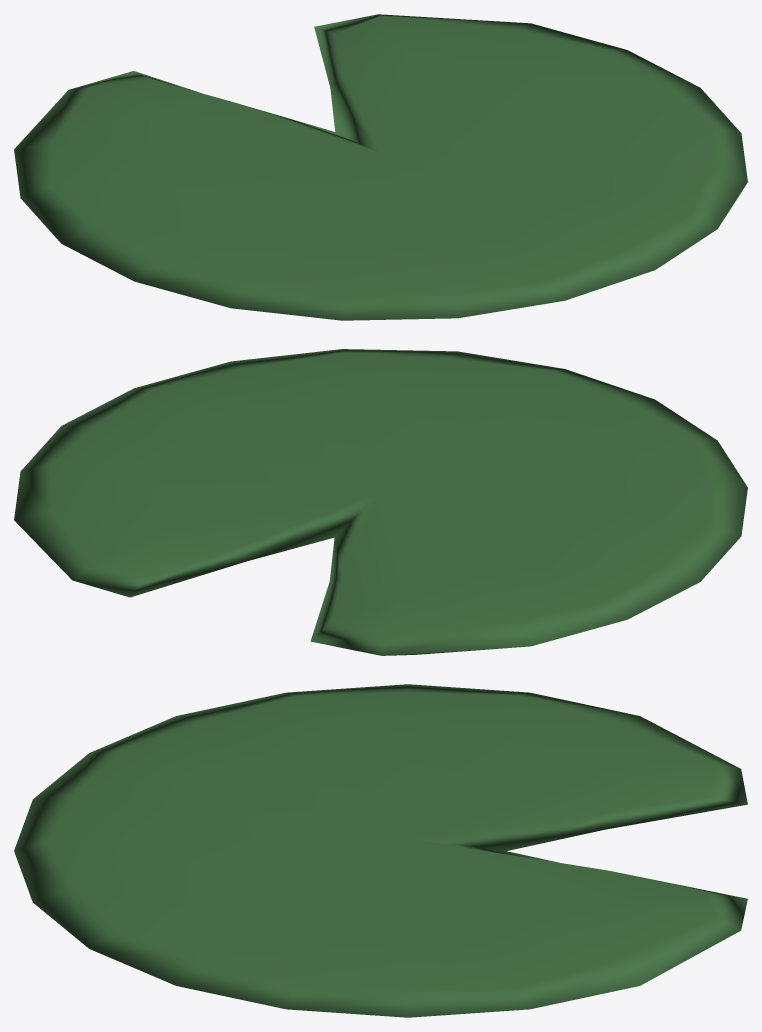
File: LilyPad_Basic.fbx
The picture shows the model from 3 angles, top to bottom: view 1: azimuth 30°, elevation 25°; view 2: azimuth 150°, elevation 25°; view 3: azimuth 270°, elevation 25°; orthographic projection. The views are drawn at different scales.
Parts seen in each view (by area): view 1: pCylinder46; view 2: pCylinder46; view 3: pCylinder46.
Boxes of the visible parts, bbox=[...] form: pCylinder46: bbox=[14, 14, 747, 320]; pCylinder46: bbox=[14, 349, 747, 655]; pCylinder46: bbox=[14, 684, 747, 1017].
Size of the model in its own units: 9.57 by 0.3412 by 8.9.
